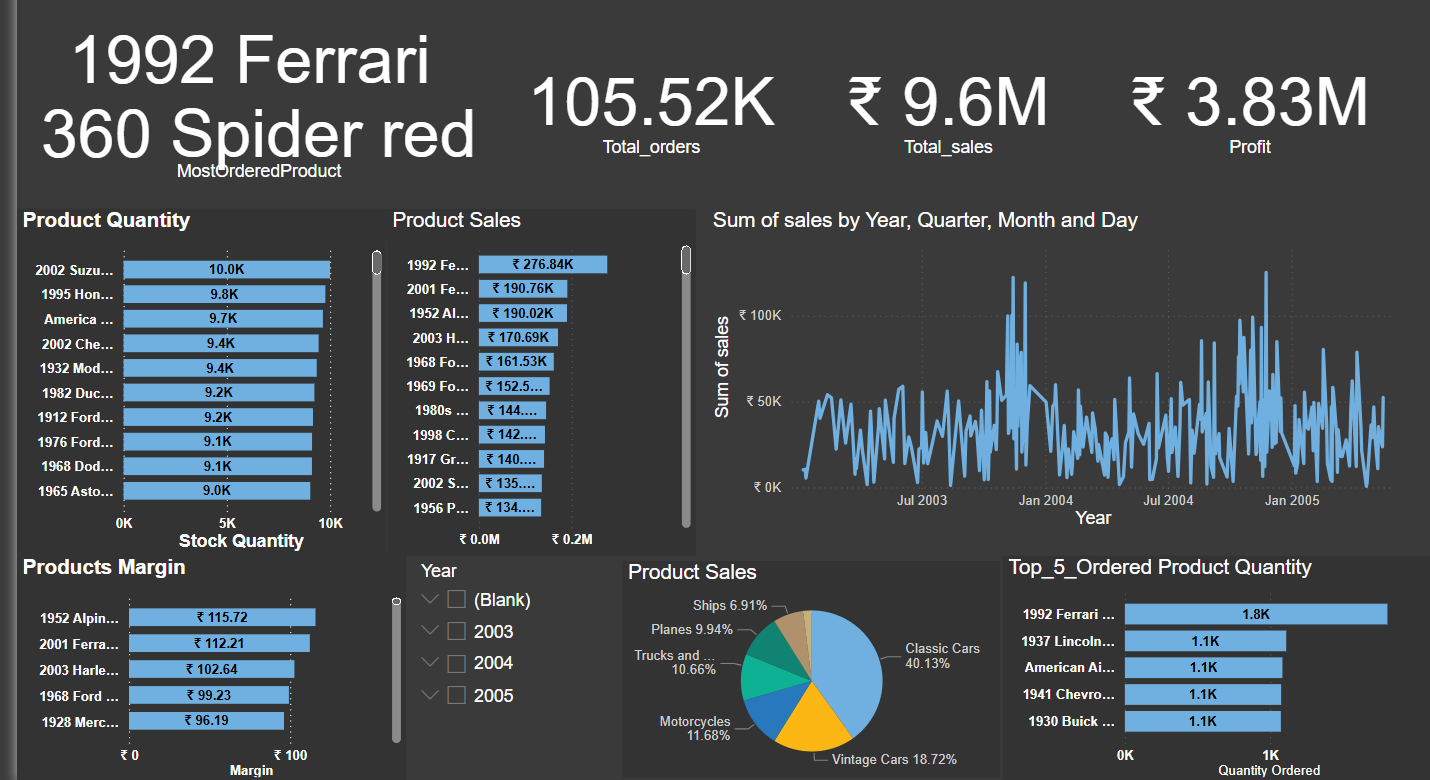

The dashboard page shown, as its layout file describes it:
{"tool":"powerbi","page":{"name":"Page 1","canvas":[1280,720],"ordinal":0},"visuals":[{"type":"barChart","title":"Product Quantity","fields":{"Category":["products.productName"],"Y":["Sum(products.quantityInStock)"]},"box":[0,200.9,333.8,314.1],"z":0},{"type":"barChart","title":"Products Margin","fields":{"Category":["products.productName"],"Y":["Sum(products.mergin)"]},"box":[0,515,351.9,205.4],"z":1000},{"type":"barChart","title":"Top_5_Ordered Product Quantity","fields":{"Category":["order_details.productName"],"Y":["Sum(order_details.quantityOrdered)"]},"box":[891,515,389.6,205.4],"z":2000},{"type":"barChart","title":"Product Sales","fields":{"Category":["order_details.productName"],"Y":["Sum(order_details.sales)"]},"box":[333.8,200.9,279.4,314.1],"z":3000},{"type":"pieChart","title":"     Product Sales","fields":{"Category":["products.productLine"],"Y":["Sum(order_details.sales)"]},"box":[546.7,519.5,341.3,196.3],"z":4000},{"type":"card","fields":{"Values":["Sum(order_details.profit)"]},"box":[977.7,10.4,295,161.9],"z":5000},{"type":"card","fields":{"Values":["classic_models_dataset.MostOrderedProduct"]},"box":[0,0,436.8,183.1],"z":6000},{"type":"card","fields":{"Values":["classic_models_dataset.Total_orders"]},"box":[437.3,0,267.6,172.3],"z":7001},{"type":"card","fields":{"Values":["classic_models_dataset.Total_sales"]},"box":[717.9,10.4,225.8,161.9],"z":7002},{"type":"lineChart","fields":{"Y":["Sum(order_details.sales)"],"Category":["orders.order_year.Variation.Date Hierarchy.Year","orders.order_year.Variation.Date Hierarchy.Quarter","orders.order_year.Variation.Date Hierarchy.Month","orders.order_year.Variation.Date Hierarchy.Day"]},"box":[623.7,200.9,640.3,293],"z":7003},{"type":"slicer","fields":{"Values":["orders.order_year.Variation.Date Hierarchy.Year","orders.order_year.Variation.Date Hierarchy.Quarter","orders.order_year.Variation.Date Hierarchy.Month","orders.order_year.Variation.Date Hierarchy.Day"]},"box":[351.9,515,169.1,205.4],"z":7004}]}

Visuals, with their boxes on the page's 1280x720 design canvas (x1, y1, x2, y2). These are canvas units, not pixel positions in the 1430x780 screenshot, which may show the page scaled, cropped or inside an application window:
"Product Quantity" barChart: [left=0, top=201, right=334, bottom=515]
"Products Margin" barChart: [left=0, top=515, right=352, bottom=720]
"Top_5_Ordered Product Quantity" barChart: [left=891, top=515, right=1281, bottom=720]
"Product Sales" barChart: [left=334, top=201, right=613, bottom=515]
"     Product Sales" pieChart: [left=547, top=520, right=888, bottom=716]
card - Sum(order_details.profit): [left=978, top=10, right=1273, bottom=172]
card - classic_models_dataset.MostOrderedProduct: [left=0, top=0, right=437, bottom=183]
card - classic_models_dataset.Total_orders: [left=437, top=0, right=705, bottom=172]
card - classic_models_dataset.Total_sales: [left=718, top=10, right=944, bottom=172]
lineChart - Sum(order_details.sales) x orders.order_year.Variation.Date Hierarchy.Year: [left=624, top=201, right=1264, bottom=494]
slicer - orders.order_year.Variation.Date Hierarchy.Year x orders.order_year.Variation.Date Hierarchy.Quarter: [left=352, top=515, right=521, bottom=720]
